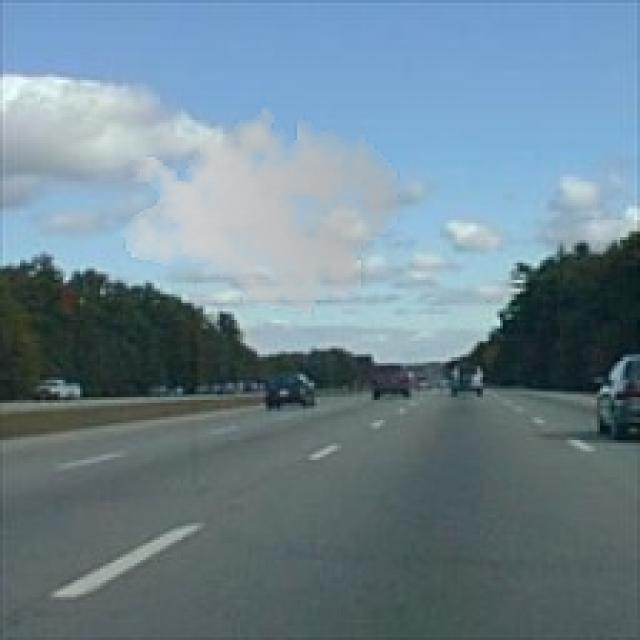smoke: (120, 94, 403, 323)
